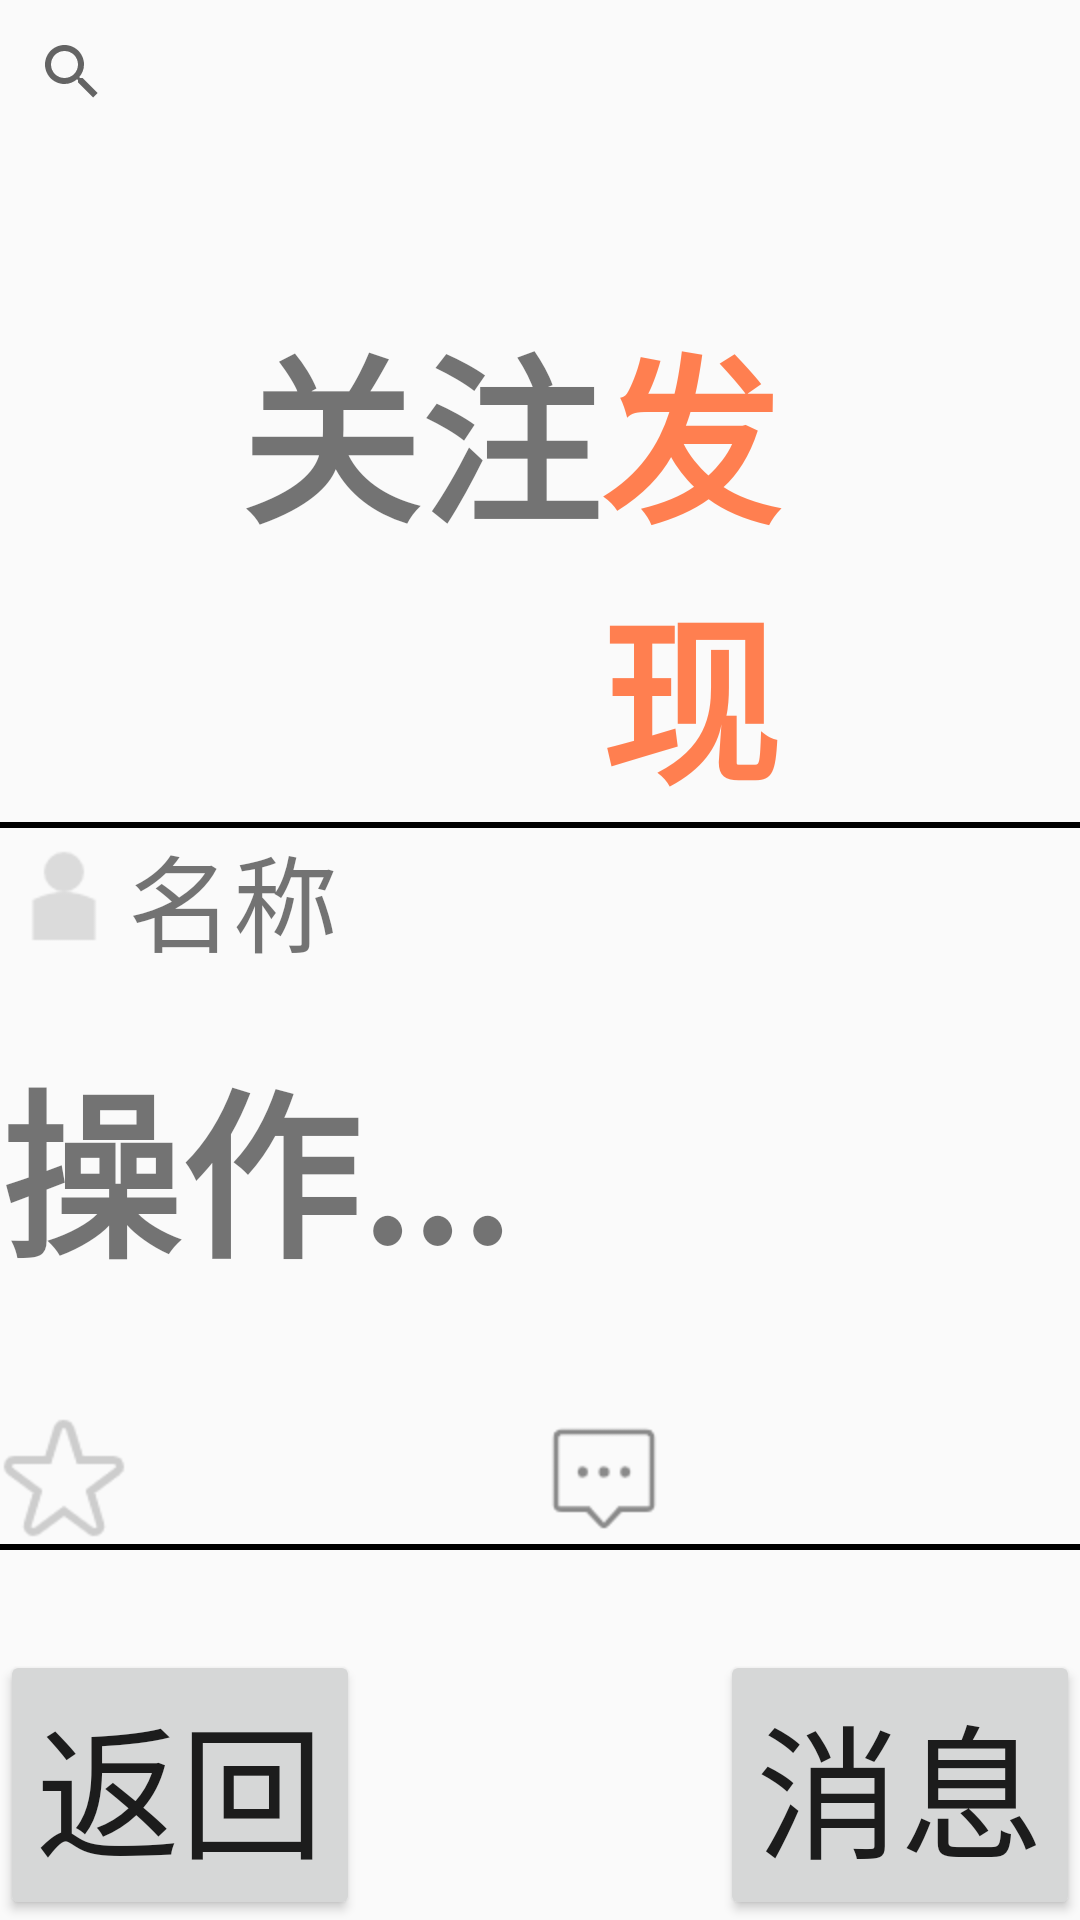

Where to tap for icons on this 1080x1920 app screen, as (x=x, y=y):
collect: (x=64, y=1478)
comment: (x=604, y=1479)
